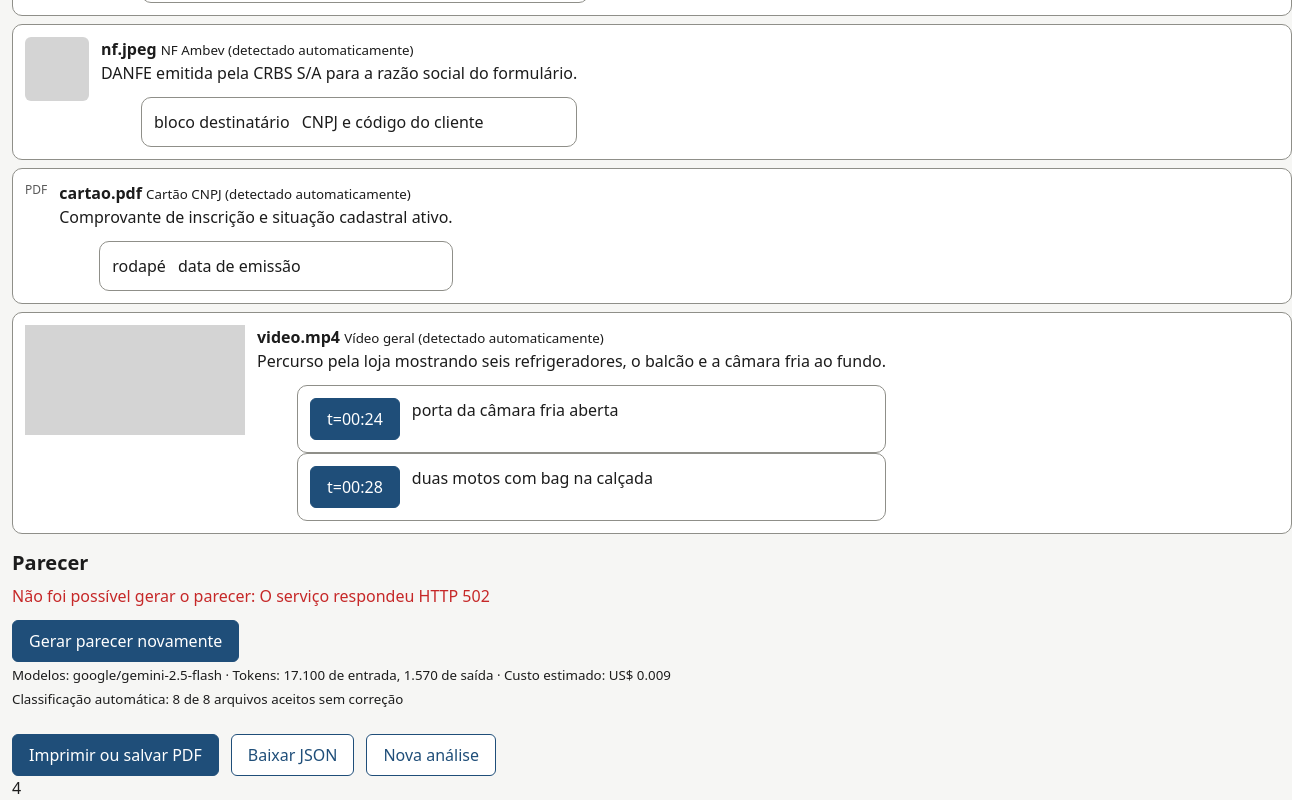
Test: EtapaRelatorio › falha no parecer mostra erro e permite gerar novamente
(page scrolled)
Expected: the text "Não foi possível gerar o parecer: O serviço respondeu HTTP 502" is shown, [12,585,490,607]
Click the button "Gerar parecer novamente".
click(126, 641)  # box [12,620,239,662]
(page scrolled)
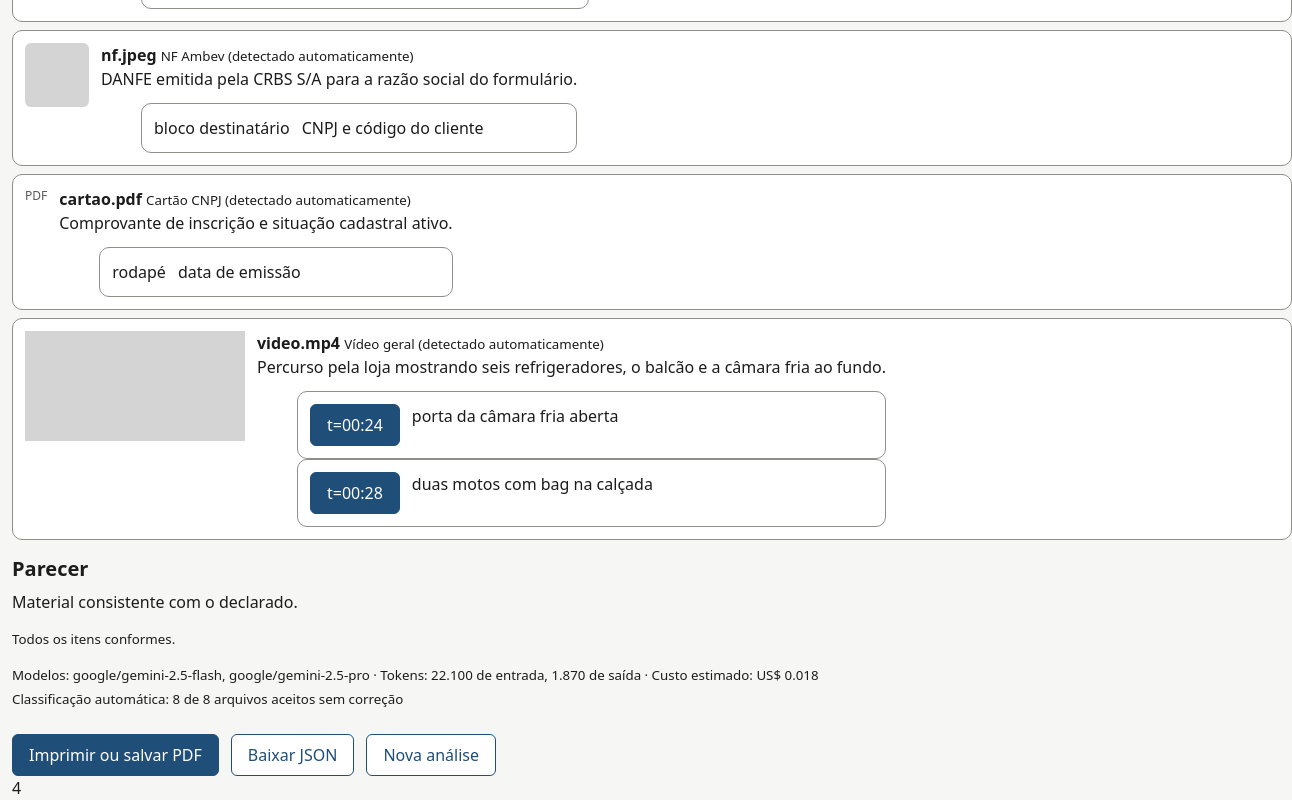
Expected: the text "Material consistente com o declarado." is shown, [12,591,298,613]
